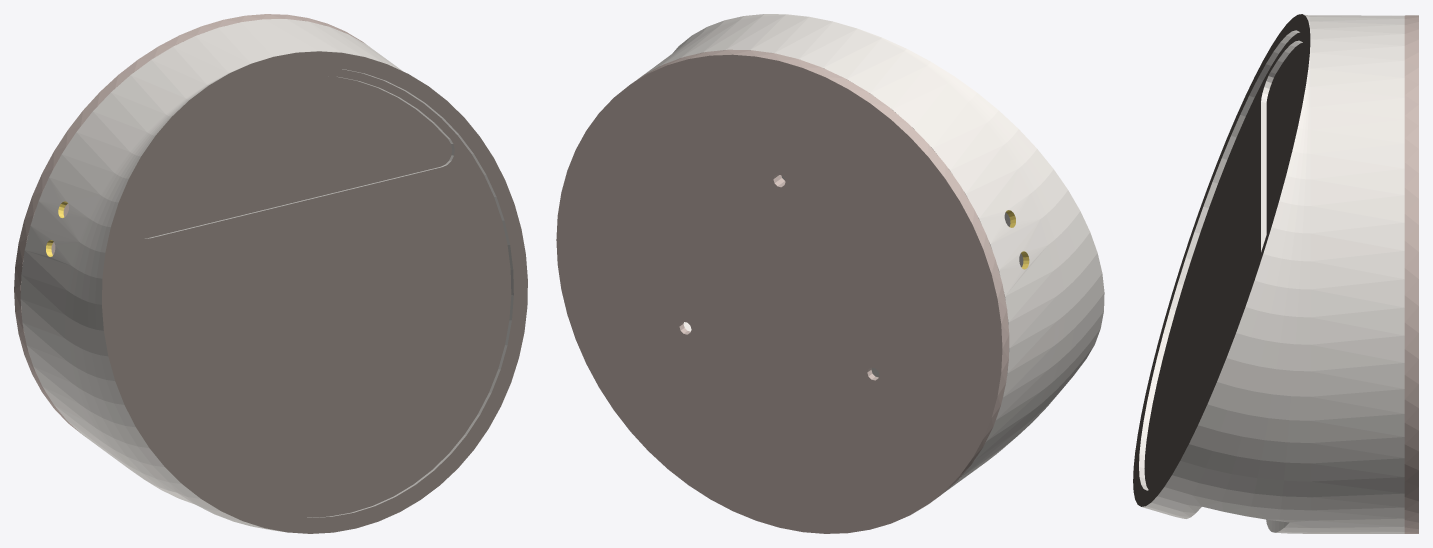
File: modelo.glb
The picture shows the model from 3 angles, left to right: view 1: azimuth 30°, elevation 25°; view 2: azimuth 150°, elevation 25°; view 3: azimuth 270°, elevation 25°; orthographic projection. The views are drawn at different scales.
Parts seen in each view (by area): view 1: frente_tactil, cuerpo, placa_muro; view 2: placa_muro, cuerpo; view 3: cuerpo, frente_tactil, placa_muro.
Boxes of the visible parts, x1,y1,x2,y2 form: frente_tactil: (102, 51, 527, 533); cuerpo: (20, 19, 513, 532); placa_muro: (14, 14, 365, 433); placa_muro: (556, 49, 1009, 533); cuerpo: (640, 14, 1104, 493); cuerpo: (1139, 14, 1404, 533); frente_tactil: (1133, 14, 1310, 506); placa_muro: (1404, 15, 1418, 533).
Size of the model in its own units: 0.11 by 0.11 by 0.0606.
